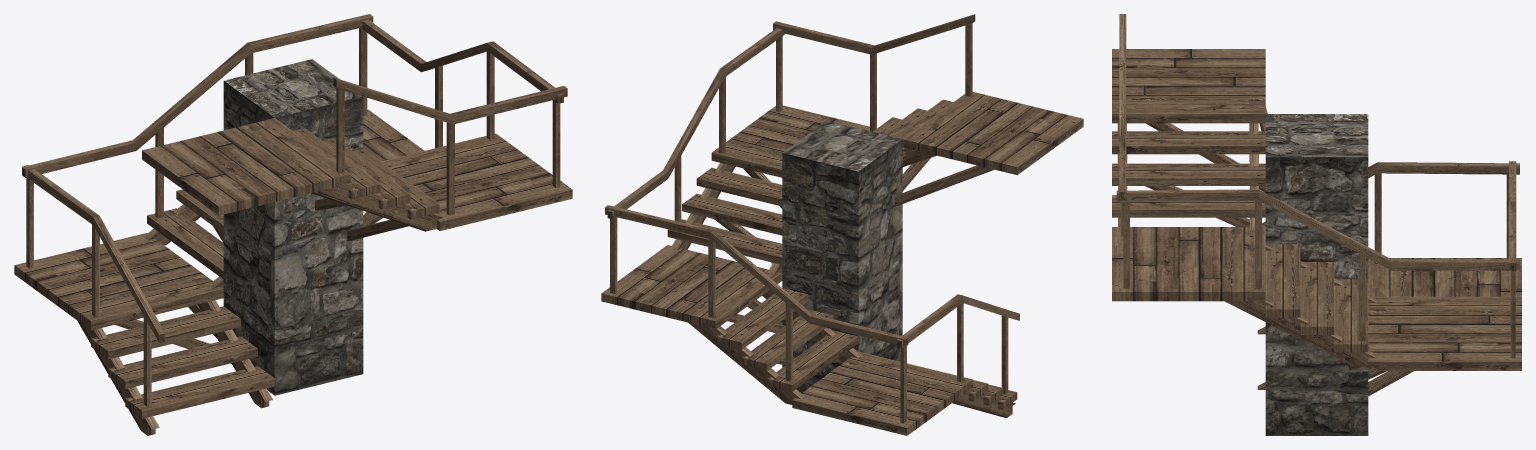
File: spiralStaircaseB.dae
The picture shows the model from 3 angles, left to right: view 1: azimuth 30°, elevation 25°; view 2: azimuth 150°, elevation 25°; view 3: azimuth 270°, elevation 25°; orthographic projection. The views are drawn at different scales.
Visible parts, largest first — view 1: Staircase, Column; view 2: Staircase, Column; view 3: Staircase, Column.
Part boxes in pixels (x1,y1,x2,y2): Staircase: (14,14,572,435); Column: (223,59,363,395); Staircase: (601,14,1083,435); Column: (782,120,902,393); Staircase: (1112,14,1521,396); Column: (1265,114,1368,435).
Size of the model in its own units: 4 by 4.12 by 4.
Materials: 2 (2 with a texture image).
